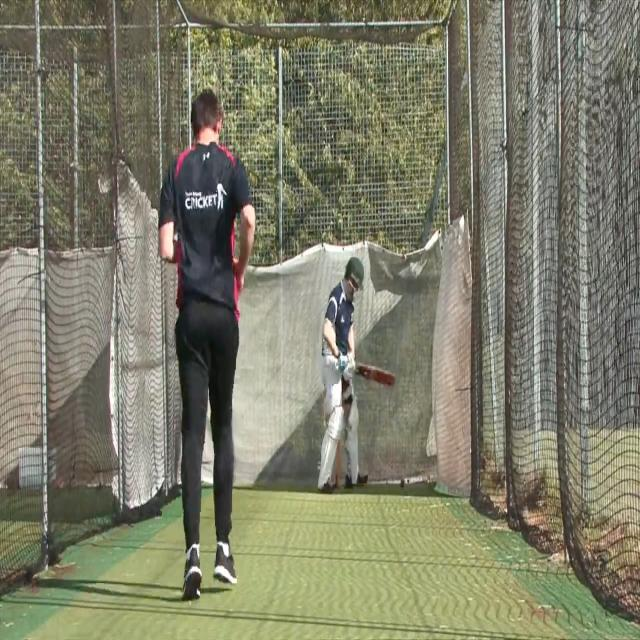batsman: (316, 254, 399, 496)
